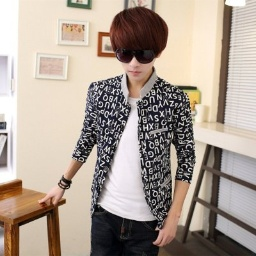face: (109, 5, 170, 82)
